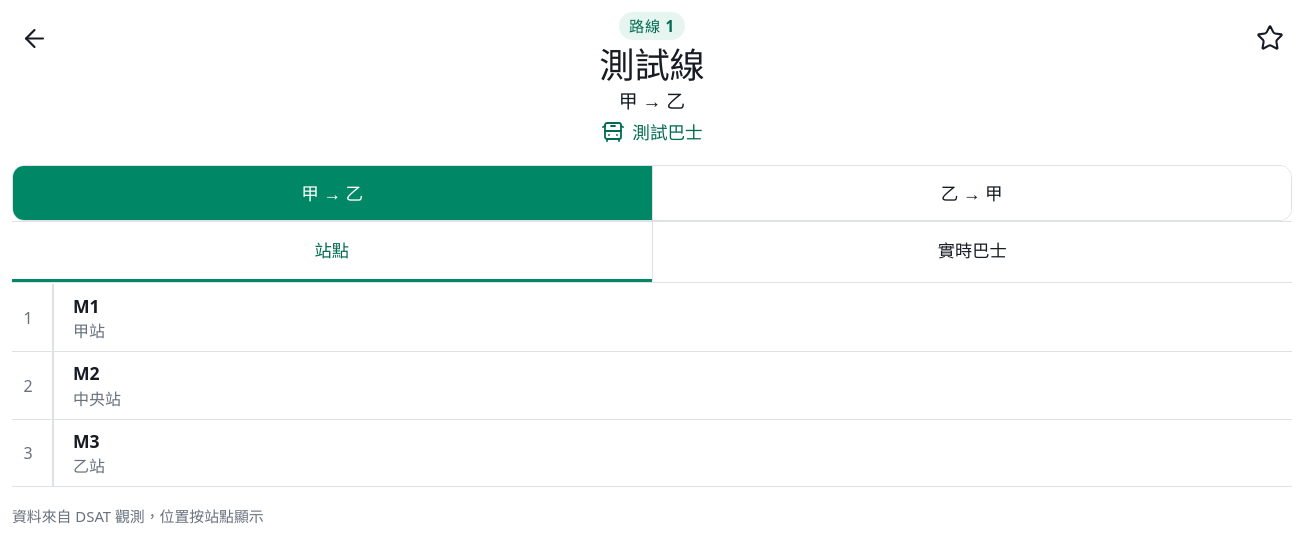
RoutePage › labels station-coordinate bus positions explicitly and hides debug diagnostics outside development
The width and height of the screenshot is (1304, 541).
Click the tab "實時巴士" at {"x": 972, "y": 252}, box x1=652 y1=222 x2=1292 y2=282
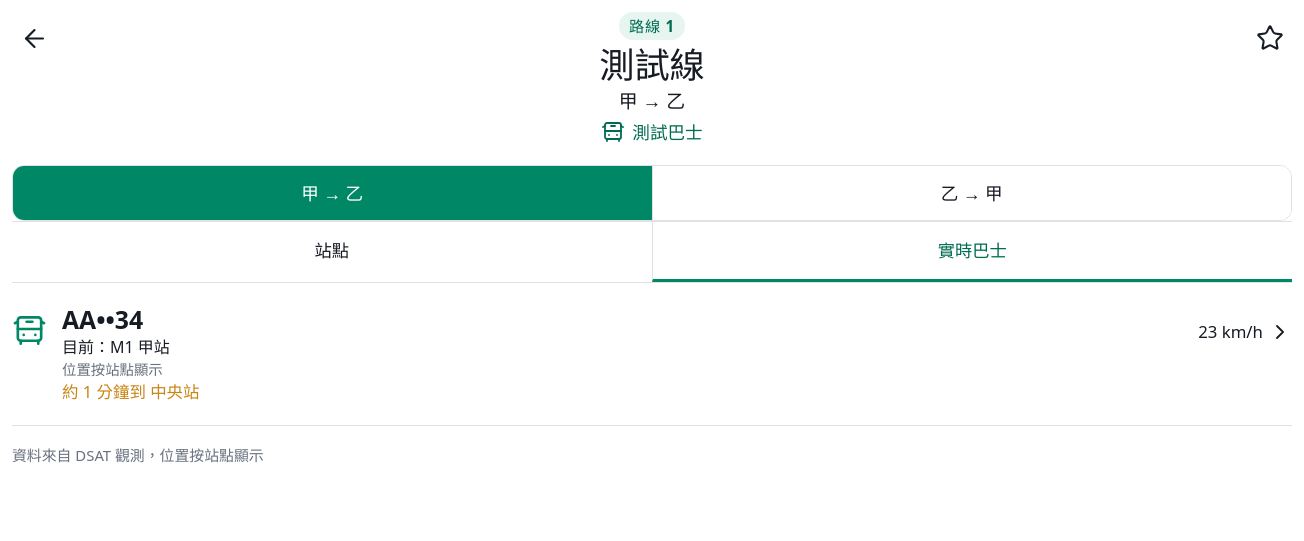
Expected: the text "位置按站點顯示" is shown, x1=62 y1=360 x2=163 y2=379
Expected: the text "約 1 分鐘到 中央站" is shown, x1=62 y1=380 x2=200 y2=403
